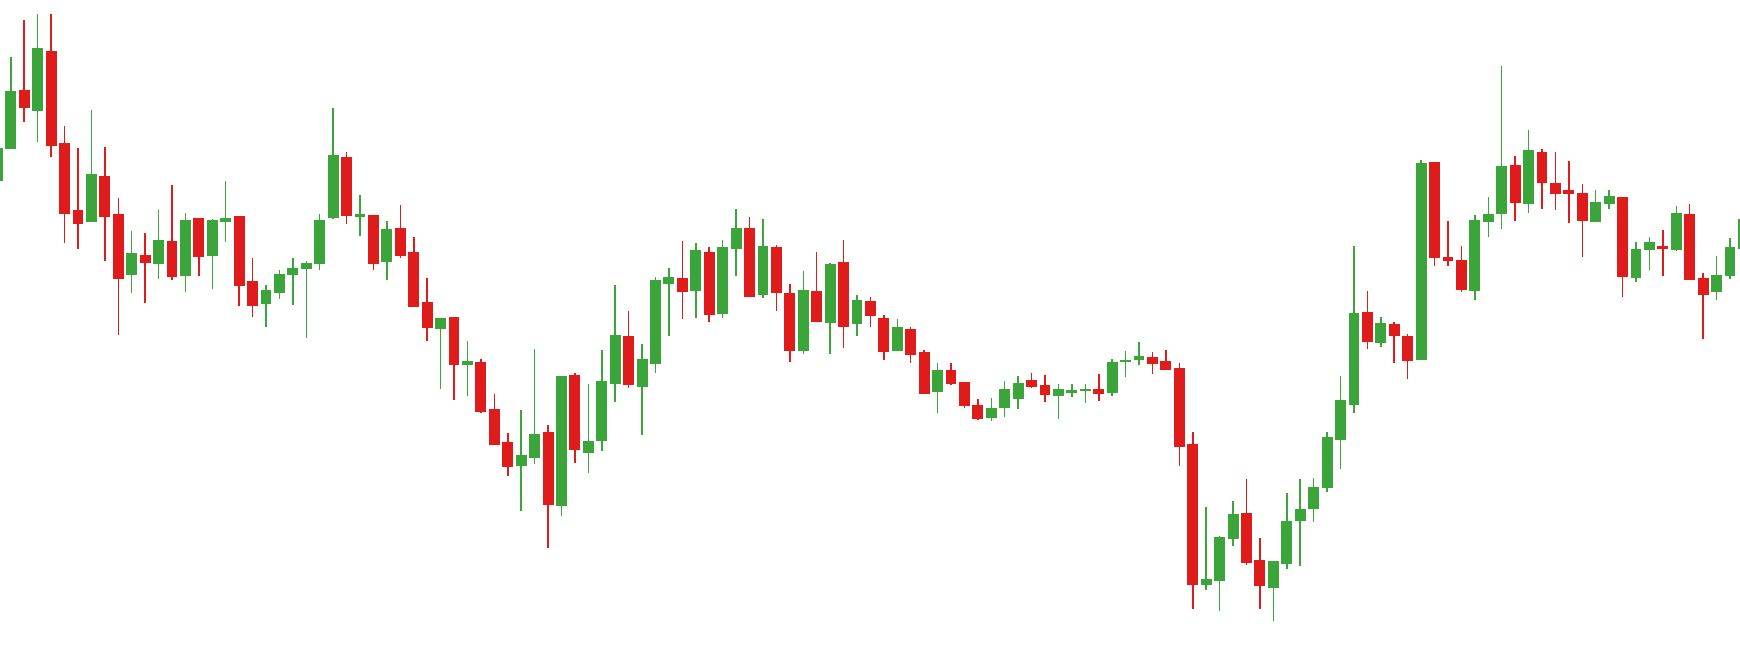buy: (539, 378, 1228, 612)
sell: (166, 111, 356, 276), (1415, 63, 1509, 229)
